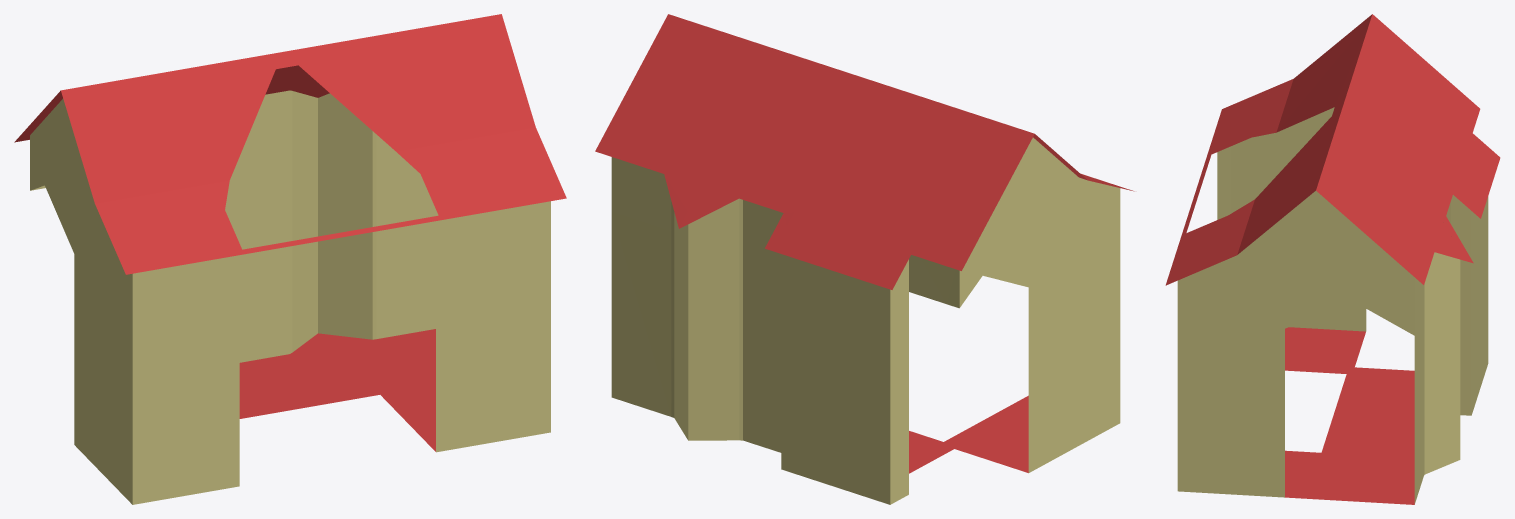
3 renders of one model, left to right at view 1: azimuth 30°, elevation 25°; view 2: azimuth 150°, elevation 25°; view 3: azimuth 270°, elevation 25°, orthographic. The views are drawn at different scales.
Bounding box in the file's own units: 20.99 × 15.53 × 16.02.
